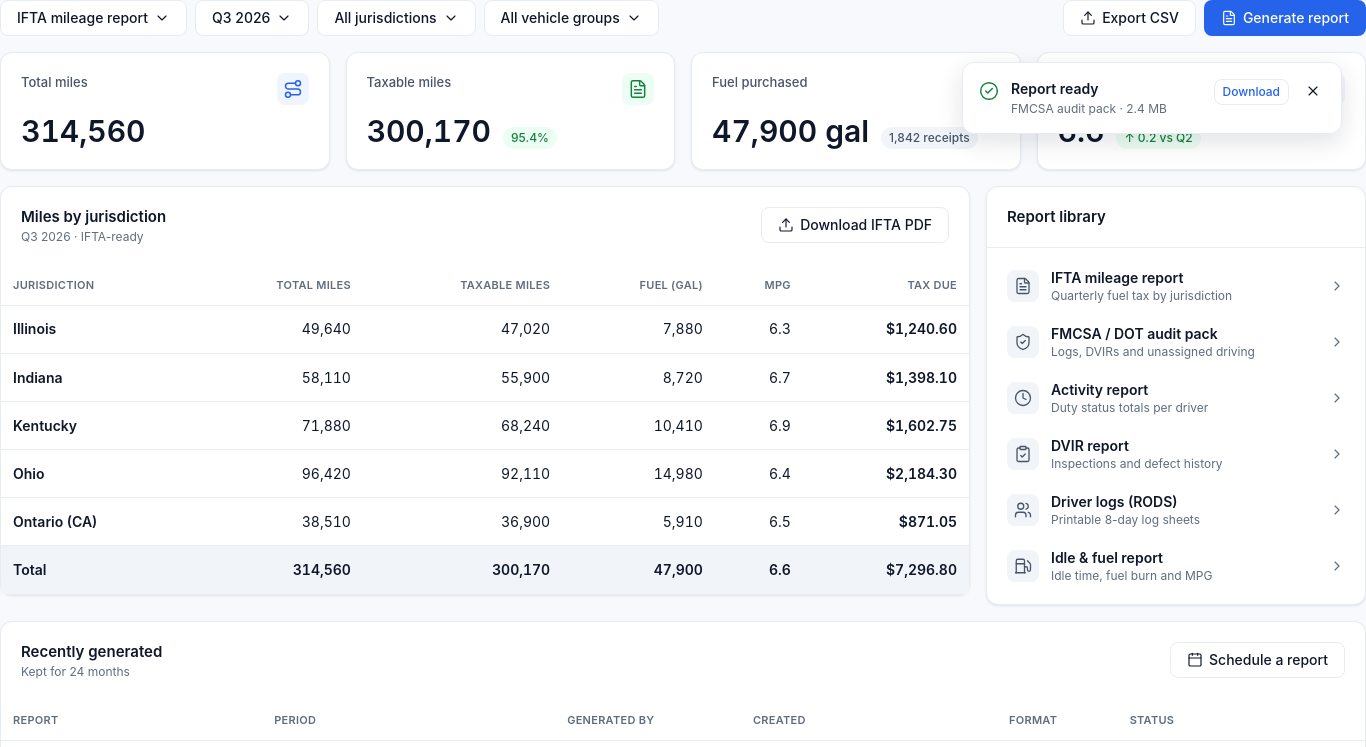
Test: W-12 Reports · IFTA › shows the library generate refusal verbatim inside the form
Click the text "Driver logs (RODS)": (1114, 502) [1051,493,1178,510]
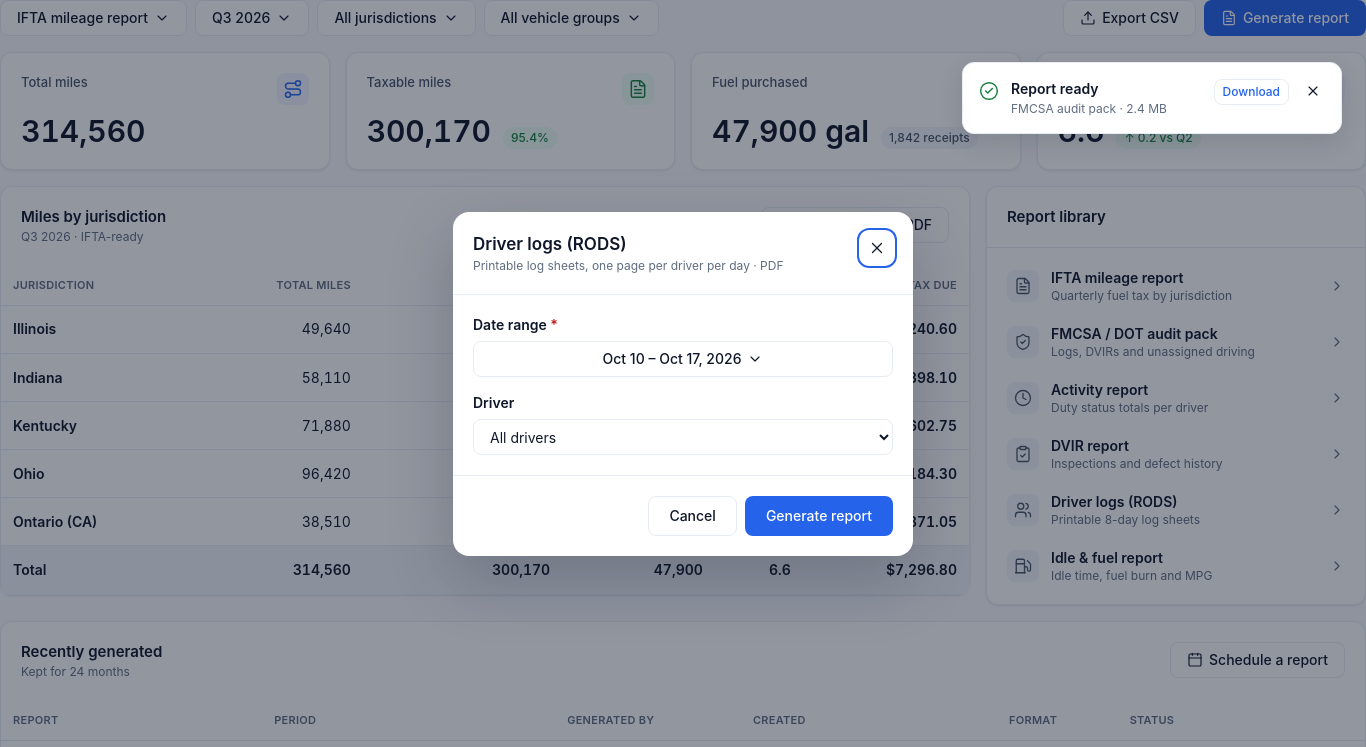
Click the button "Generate report": (819, 516) [745,496,893,536]
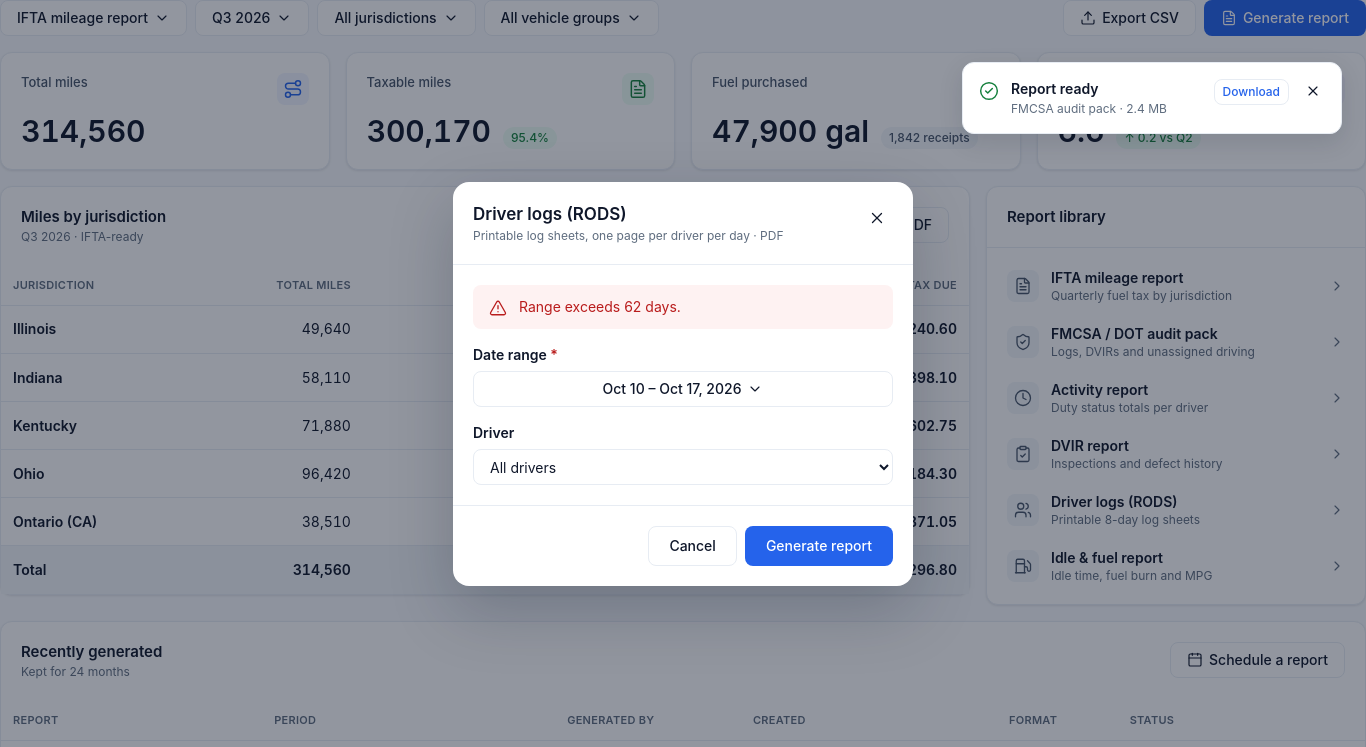
Now the text "Range exceeds 62 days." is shown, box [519,298,681,315]
